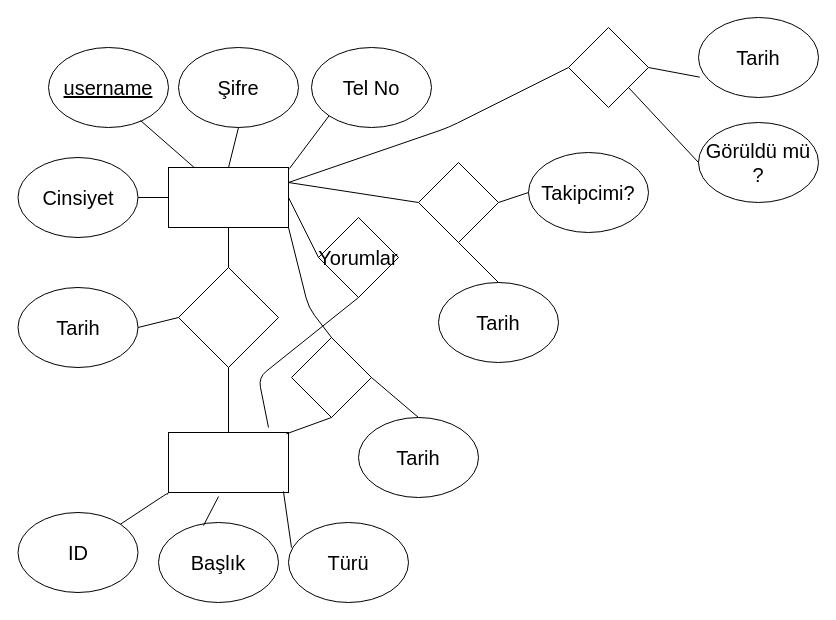
Image size: 836x620. Some labels were removed from this diagram. Each missing label, with the centre of its shape:
Beğeni: (331,377)
Gönderim: (228,462)
Kullanıcı: (228,197)
Mesaj: (608,67)
Paylaşım: (228,317)
Takipci: (458,202)
